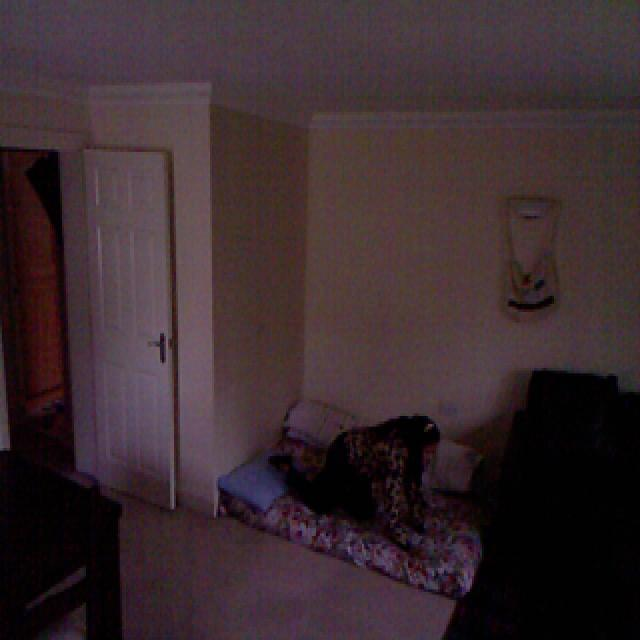Fall: (246, 402, 464, 586)
